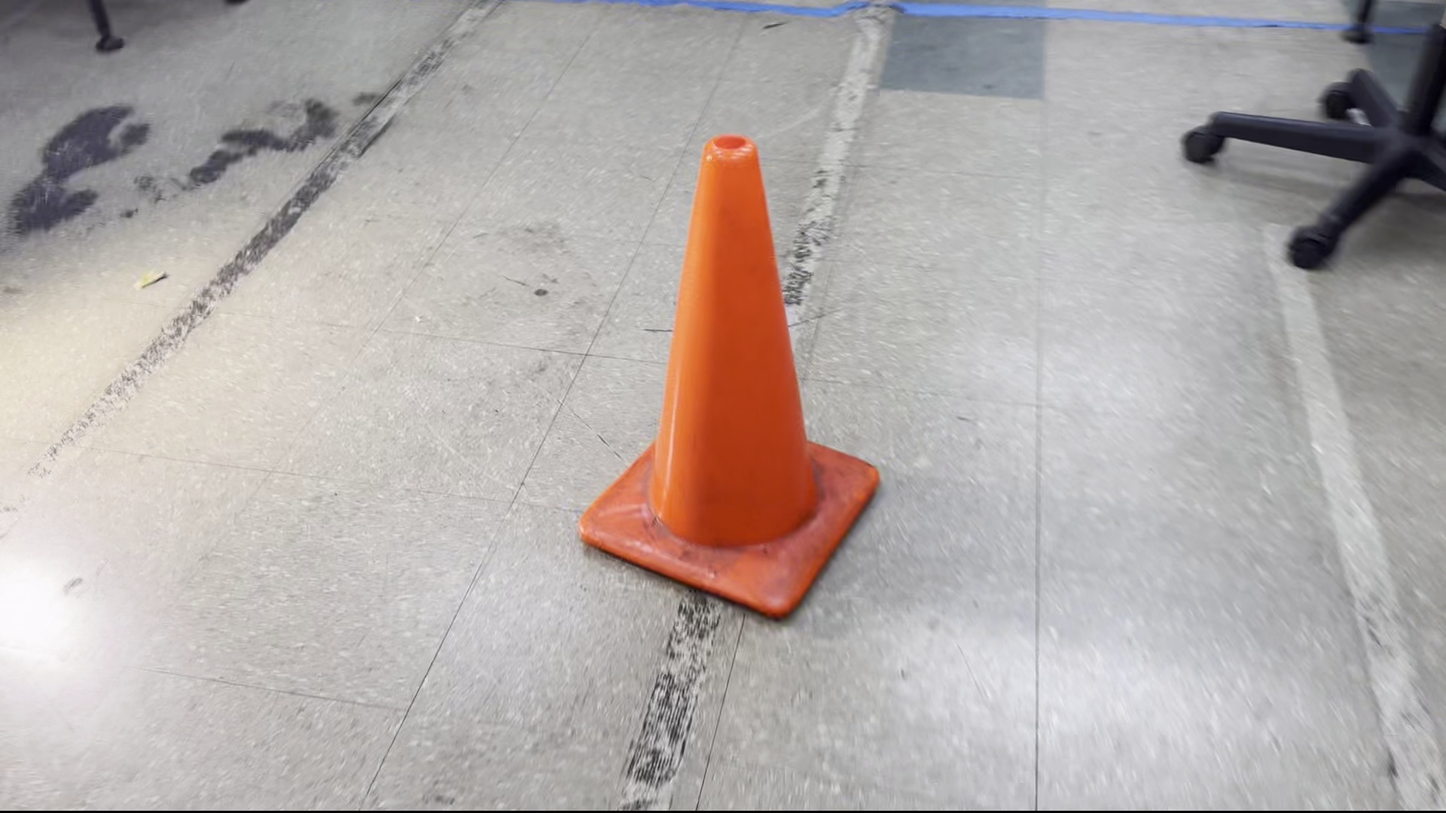traffic_cone: (578, 132, 881, 620)
